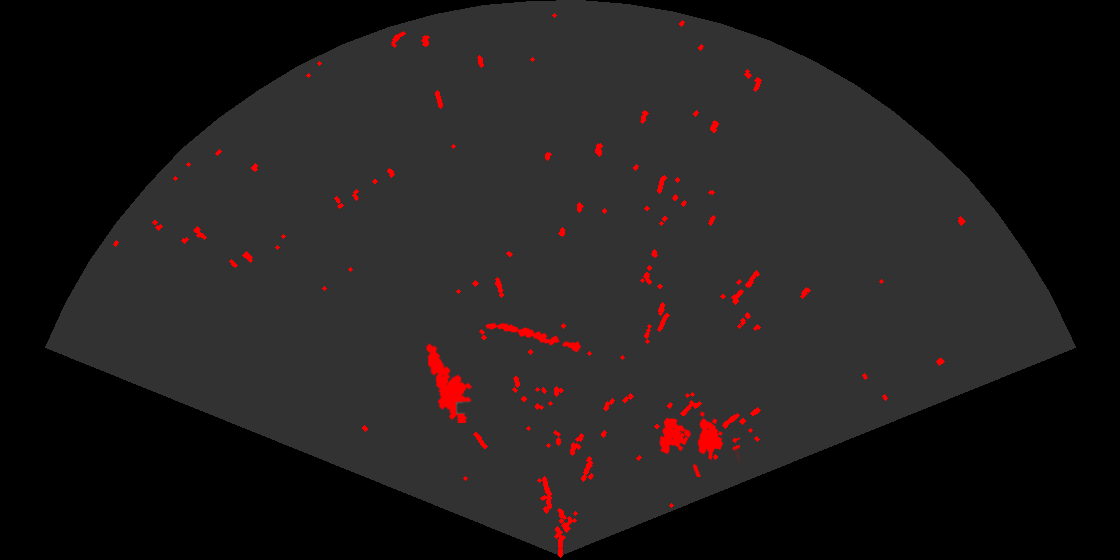cage: (658, 410, 740, 477)
chain: (484, 321, 583, 354)
frogman: (424, 342, 474, 423)
